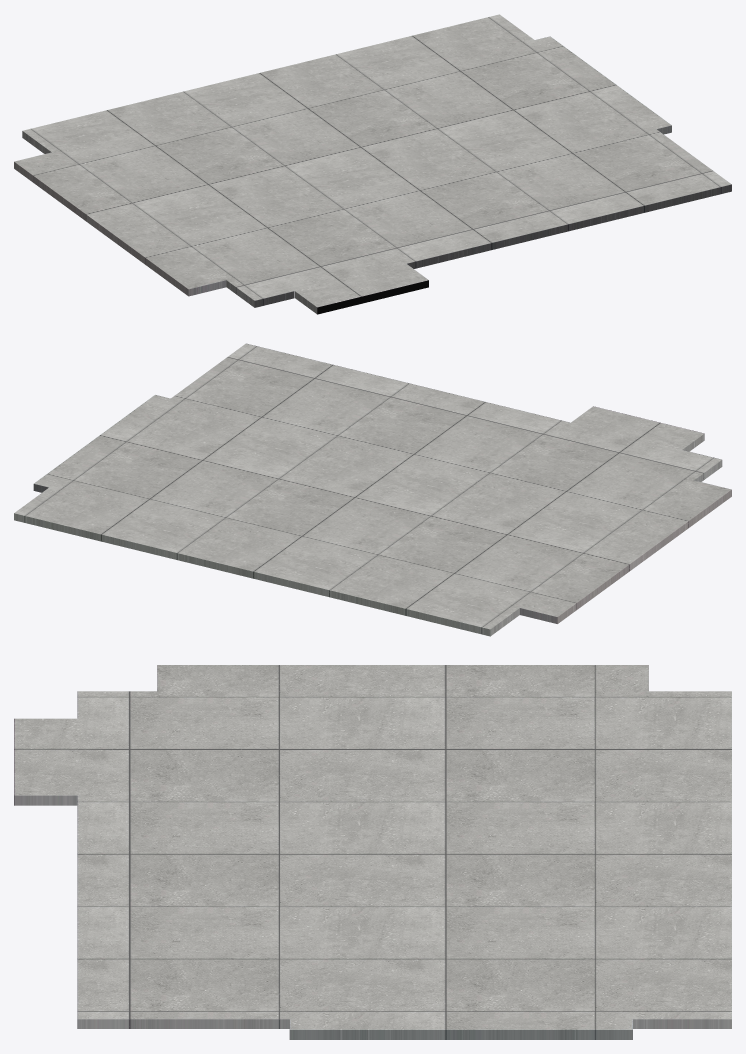
The model's file is piastrelle.gltf.
3 renders of one model, top to bottom at view 1: azimuth 30°, elevation 25°; view 2: azimuth 150°, elevation 25°; view 3: azimuth 270°, elevation 25°, orthographic. The views are drawn at different scales.
Parts seen in each view (by area): view 1: pavimento; view 2: pavimento; view 3: pavimento.
Part boxes in pixels (x1,y1,x2,y2): pavimento: (14,14,731,314); pavimento: (14,343,731,636); pavimento: (14,665,731,1039).
Size of the model in its own units: 9.56 by 0.1214 by 7.95.
1 material, 1 textured.
